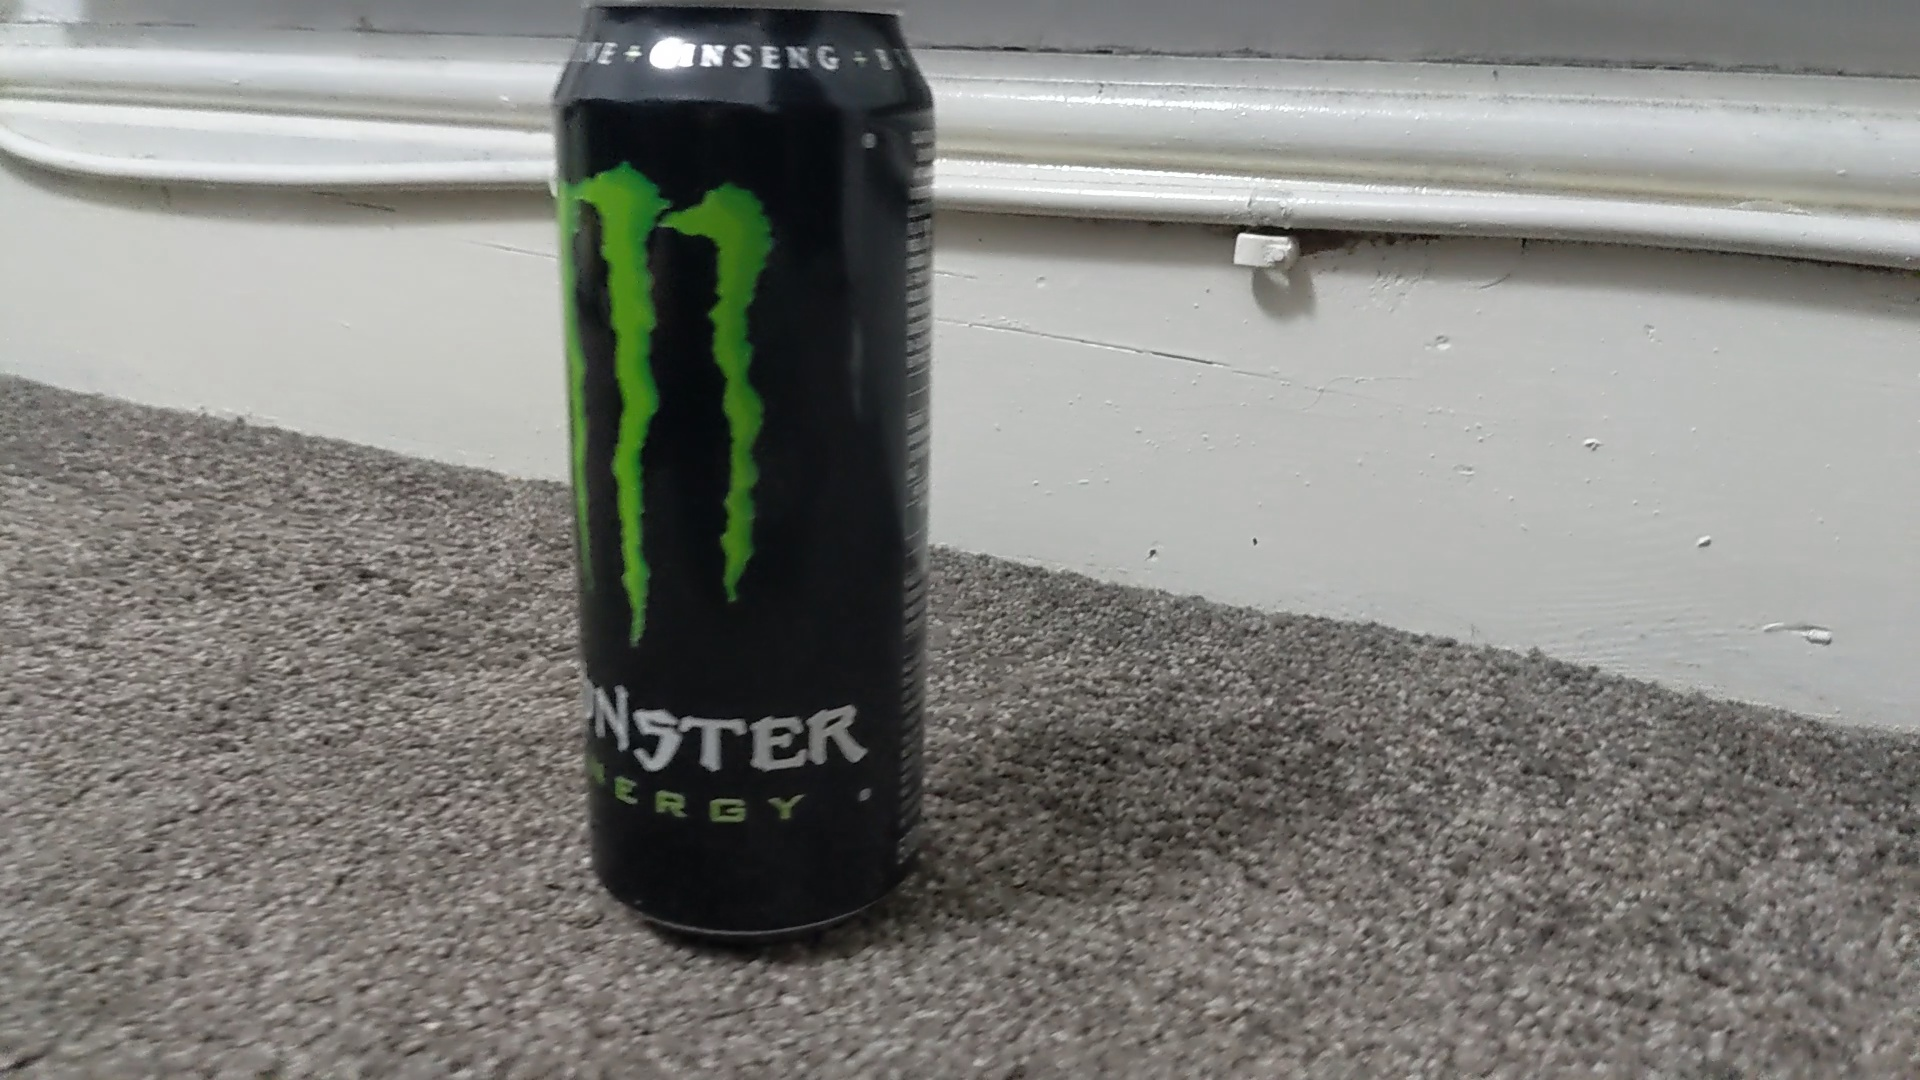monster-original: (551, 1, 936, 942)
